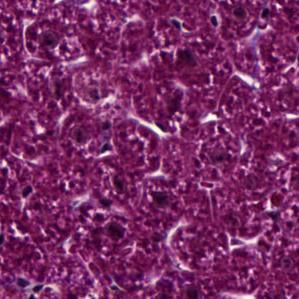inflammation: (18, 16, 90, 67), (156, 41, 201, 73), (118, 127, 159, 154), (100, 217, 129, 243)
